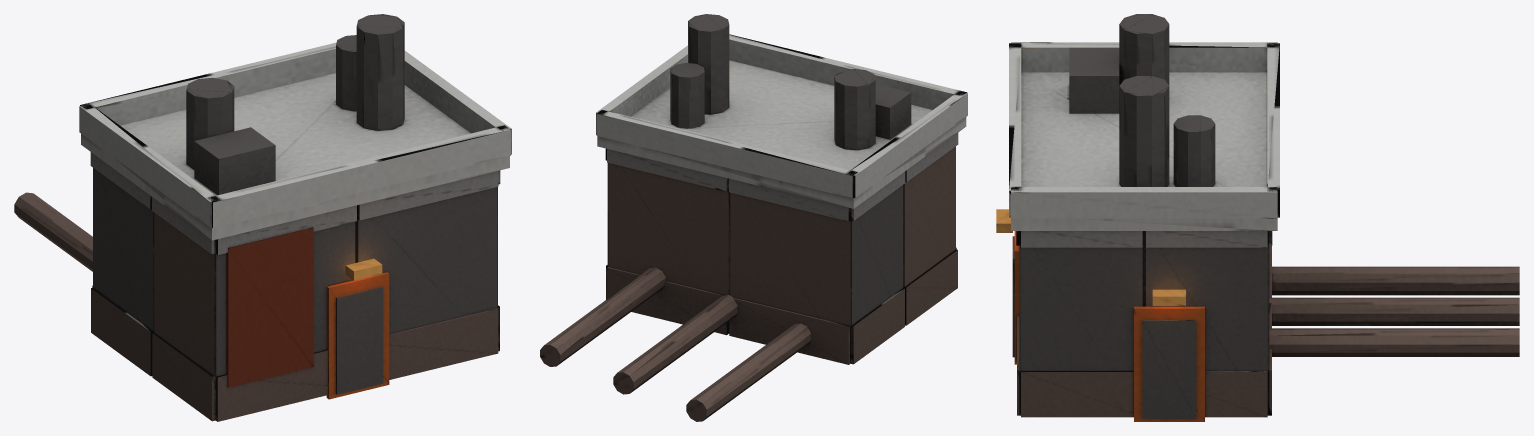
Rendered from B_pump_house.glb.
The picture shows the model from 3 angles, left to right: view 1: azimuth 30°, elevation 25°; view 2: azimuth 150°, elevation 25°; view 3: azimuth 270°, elevation 25°; orthographic projection. The views are drawn at different scales.
Visible parts, largest first — view 1: Cube; view 2: Cube; view 3: Cube.
Boxes of the visible parts, x1,y1,x2,y2 form: Cube: [14, 14, 511, 421]; Cube: [540, 14, 967, 421]; Cube: [996, 14, 1519, 421].
Size of the model in its own units: 8.8 by 8.1 by 12.55.
Materials: 1 (1 with a texture image).
